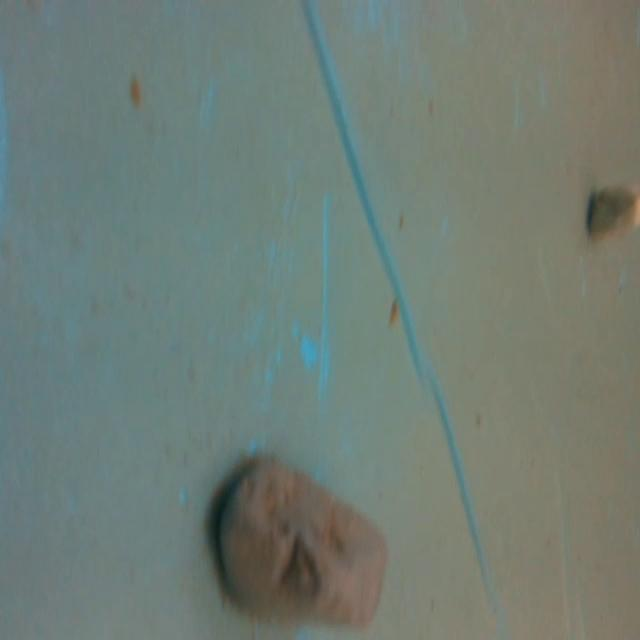rock: (203, 449, 403, 635), (581, 184, 640, 244)
